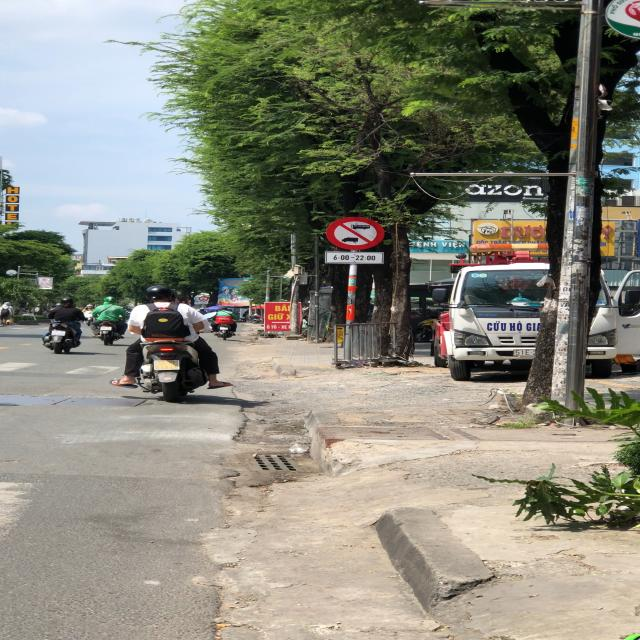Bien bao cam xe oto khach va xe oto tai: (323, 212, 391, 252)
